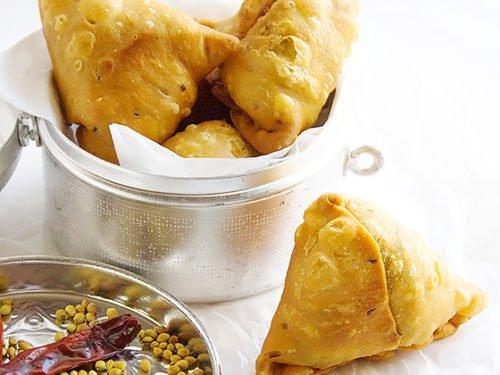samosa: (41, 0, 358, 162), (257, 194, 486, 374)
